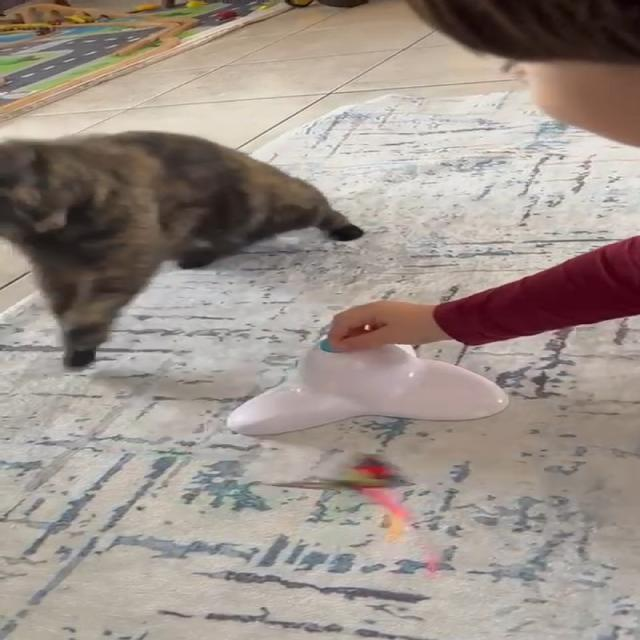authorized: (0, 129, 364, 368)
